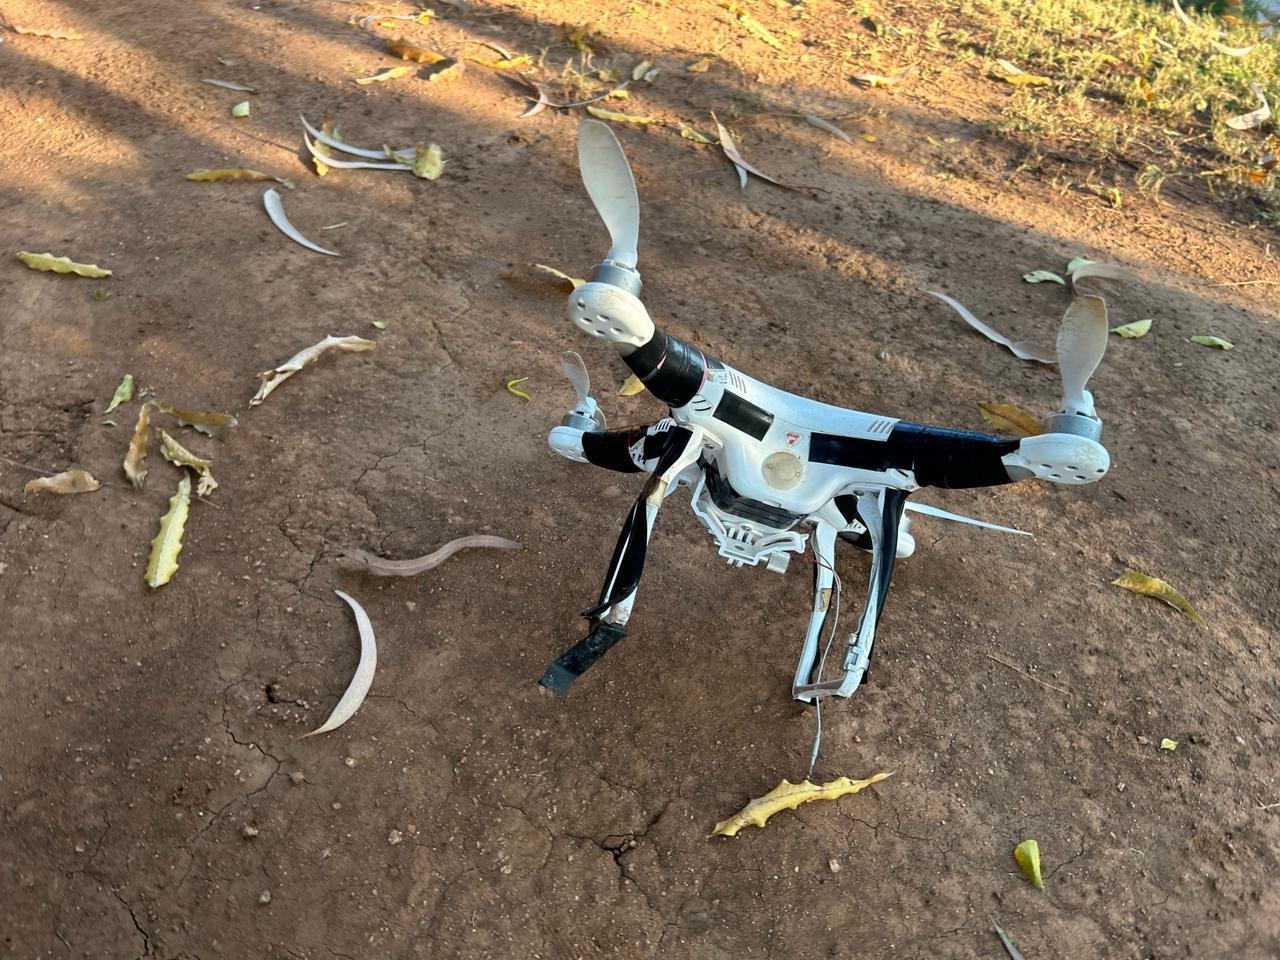drone: (444, 142, 1170, 769)
